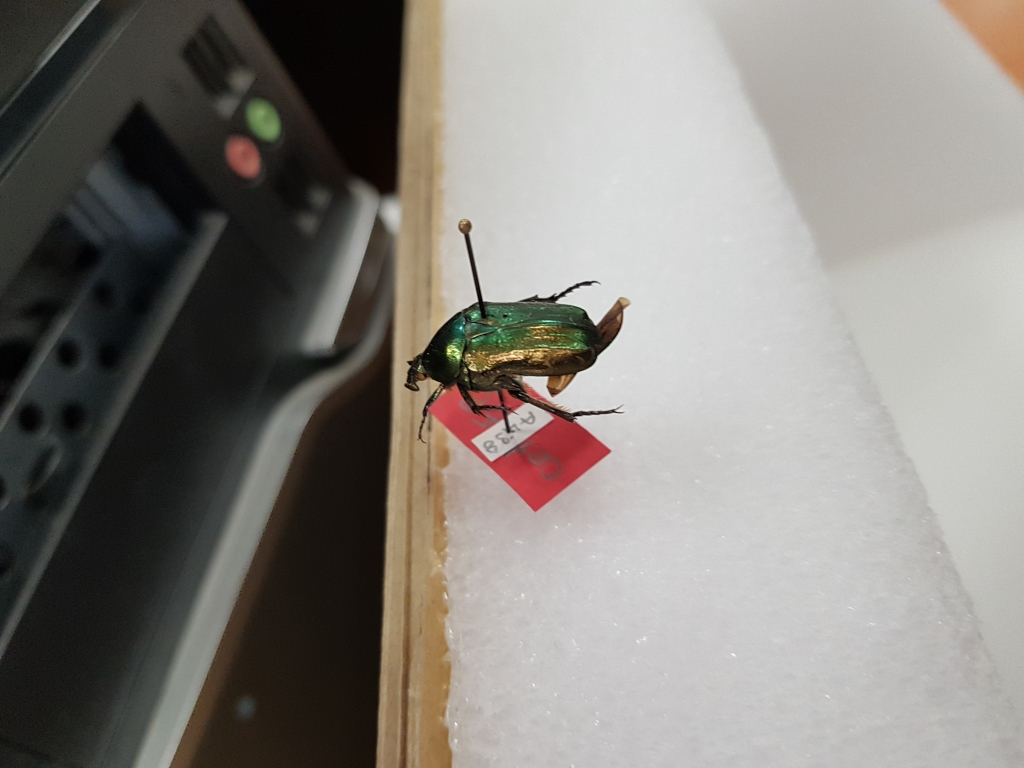Cetonia_kemali: (400, 273, 645, 444)
